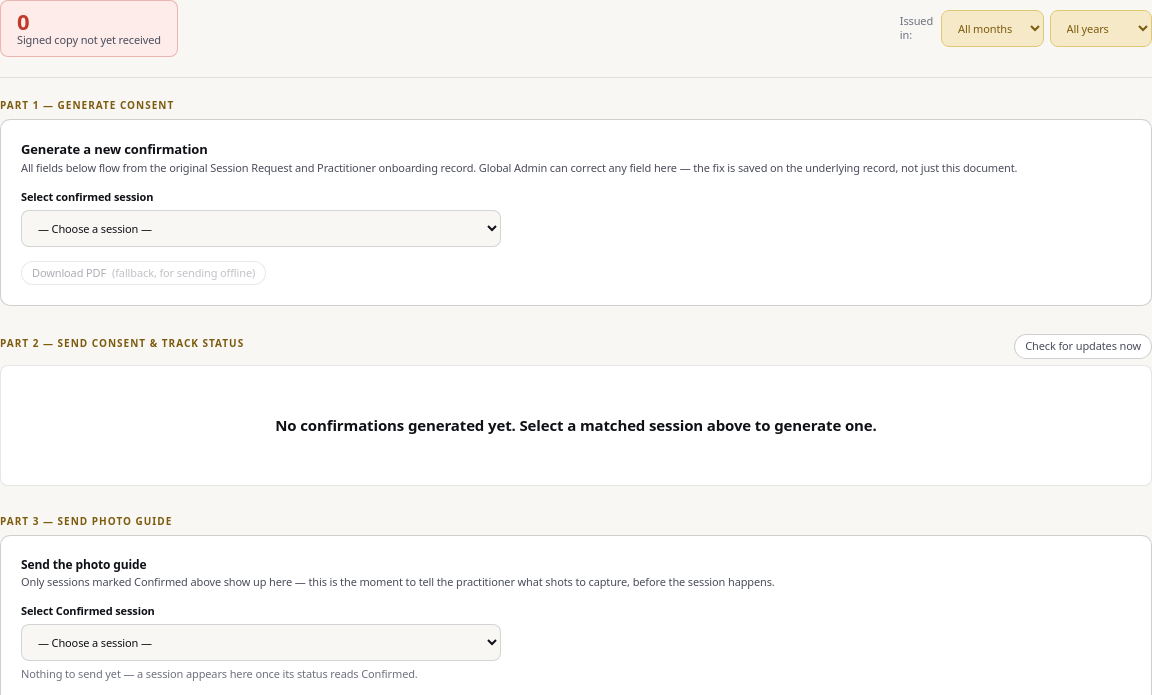
Test case: the fields the admin fills in open empty › shows no date, no time and no duration
Select "IQC-S0001 — Priya Sharma — Equity Investing Simplified" in the dropdown labelled "Select confirmed session" at (261, 228), box left=21, top=210, right=501, bottom=247
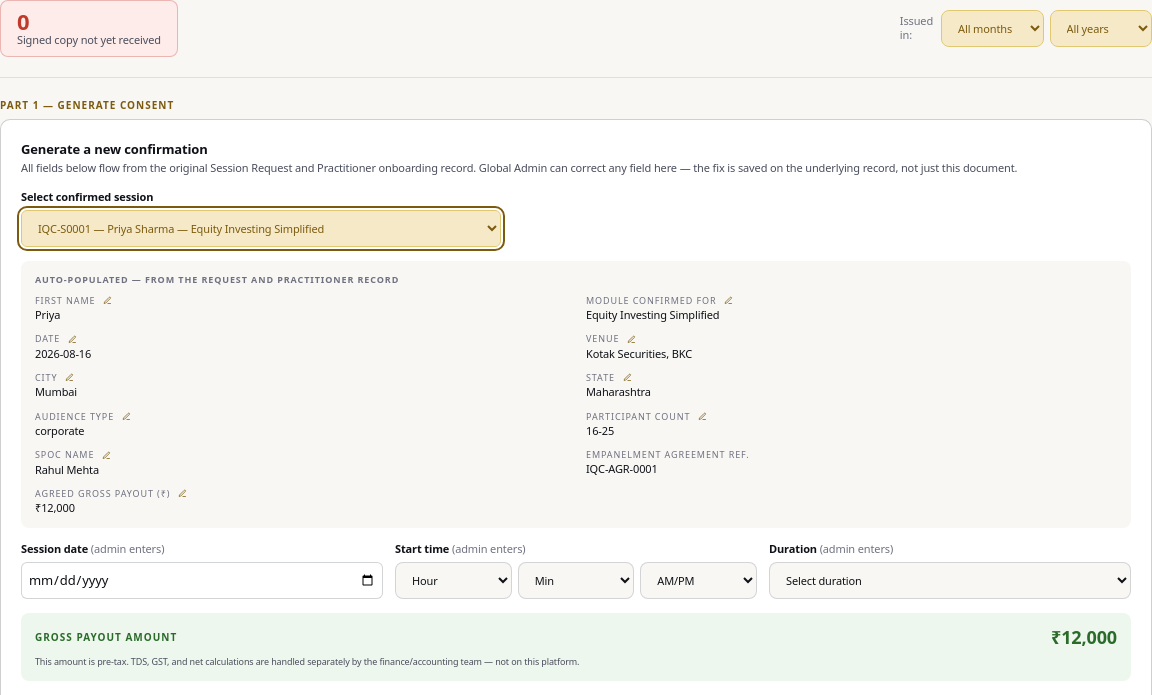
Result: the date field labelled "Session date (admin enters)" is empty at left=21, top=562, right=383, bottom=599
Result: the 3rd dropdown named "Hour" shows "Hour" at left=395, top=562, right=512, bottom=599
Result: the 4th dropdown named "Minute" shows "Min" at left=518, top=562, right=634, bottom=599
